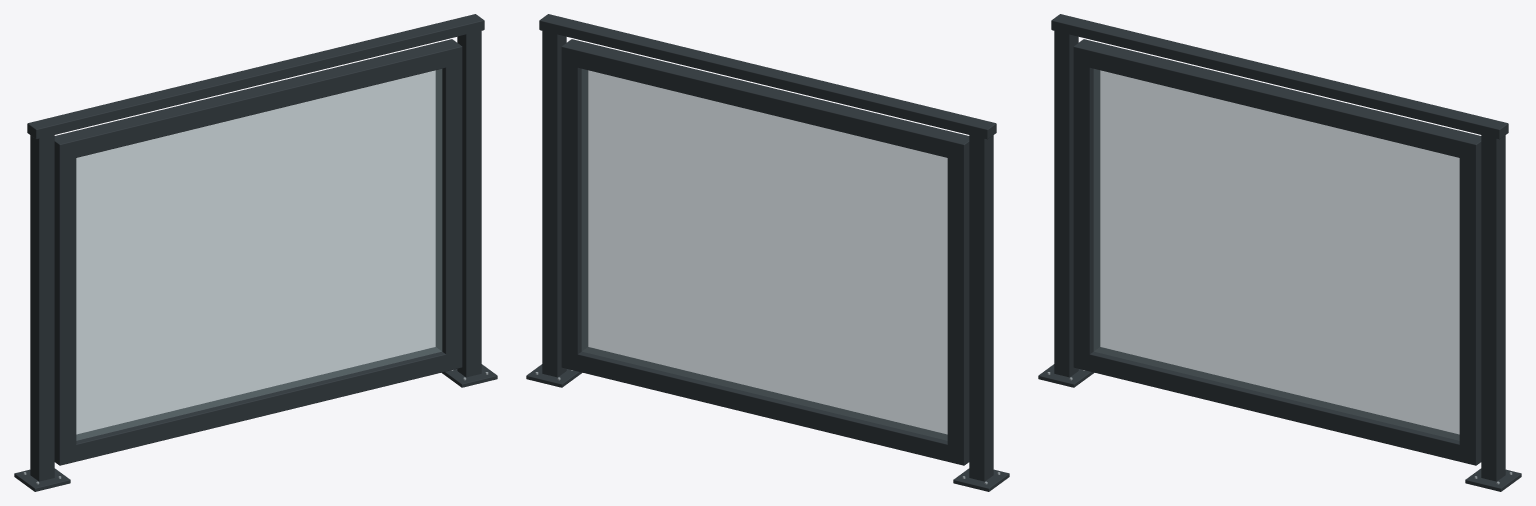
File: railing_d391c76c.glb
3 renders of one model, left to right at view 1: azimuth 30°, elevation 25°; view 2: azimuth 150°, elevation 25°; view 3: azimuth 330°, elevation 25°, orthographic.
Parts seen in each view (by area): view 1: PV_glass_4, frame_top_2, frame_bottom_3, post_5, handrail_9, frame_right_1, frame_left_0, post_7, base_plate_6, base_plate_8; view 2: PV_glass_4, frame_top_2, frame_bottom_3, post_5, frame_right_1, handrail_9, frame_left_0, post_7, base_plate_6, base_plate_8; view 3: PV_glass_4, frame_top_2, frame_bottom_3, post_7, frame_left_0, handrail_9, frame_right_1, post_5, base_plate_8, base_plate_6.
Part boxes in pixels (x1=…): PV_glass_4: x1=76, y1=69, x2=442, y2=440; frame_top_2: x1=54, y1=39, x2=462, y2=160; frame_bottom_3: x1=59, y1=347, x2=461, y2=465; post_5: x1=30, y1=131, x2=54, y2=481; handrail_9: x1=27, y1=14, x2=484, y2=139; frame_right_1: x1=435, y1=46, x2=462, y2=370; frame_left_0: x1=54, y1=133, x2=76, y2=465; post_7: x1=457, y1=30, x2=481, y2=377; base_plate_6: x1=14, y1=468, x2=70, y2=491; base_plate_8: x1=441, y1=364, x2=497, y2=387; PV_glass_4: x1=581, y1=69, x2=947, y2=440; frame_top_2: x1=562, y1=39, x2=968, y2=160; frame_bottom_3: x1=561, y1=347, x2=964, y2=465; post_5: x1=969, y1=131, x2=993, y2=481; frame_right_1: x1=561, y1=46, x2=588, y2=371; handrail_9: x1=539, y1=14, x2=996, y2=139; frame_left_0: x1=947, y1=133, x2=969, y2=465; post_7: x1=542, y1=27, x2=566, y2=377; base_plate_6: x1=953, y1=468, x2=1009, y2=491; base_plate_8: x1=526, y1=364, x2=582, y2=387; PV_glass_4: x1=1093, y1=69, x2=1459, y2=440; frame_top_2: x1=1074, y1=39, x2=1480, y2=160; frame_bottom_3: x1=1073, y1=347, x2=1476, y2=465; post_7: x1=1481, y1=131, x2=1505, y2=481; frame_left_0: x1=1073, y1=46, x2=1100, y2=371; handrail_9: x1=1051, y1=14, x2=1508, y2=139; frame_right_1: x1=1459, y1=133, x2=1481, y2=465; post_5: x1=1054, y1=27, x2=1078, y2=377; base_plate_8: x1=1465, y1=468, x2=1521, y2=491; base_plate_6: x1=1038, y1=364, x2=1094, y2=387.
Bounding box in the file's own units: 1.93 × 1.42 × 0.15.
